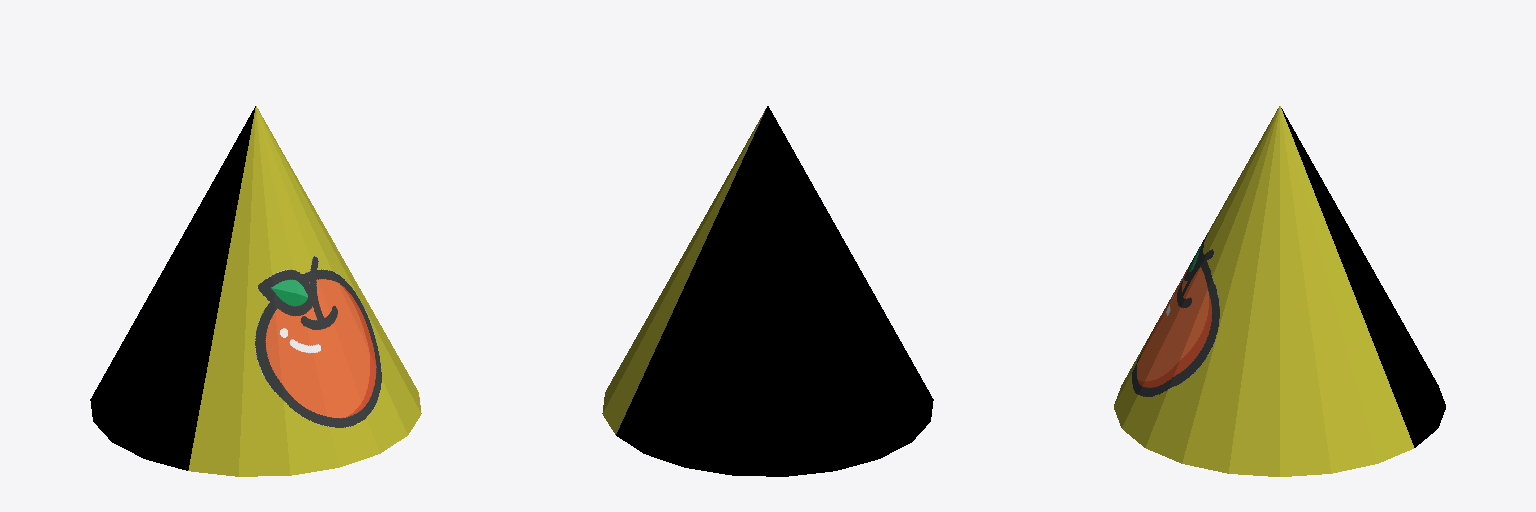
3 views of the same model, side by side, from view 1: azimuth 30°, elevation 25°; view 2: azimuth 150°, elevation 25°; view 3: azimuth 270°, elevation 25° (orthographic).
Visible parts, largest first — view 1: pCone1; view 2: pCone1; view 3: pCone1.
Boxes of the visible parts, box(x1,y1,x2,y2) form: pCone1: box(90, 106, 421, 476); pCone1: box(602, 106, 933, 476); pCone1: box(1114, 106, 1445, 476).
Size of the model in its own units: 6.62 by 6.62 by 6.62.
Materials: 3 (1 with a texture image).